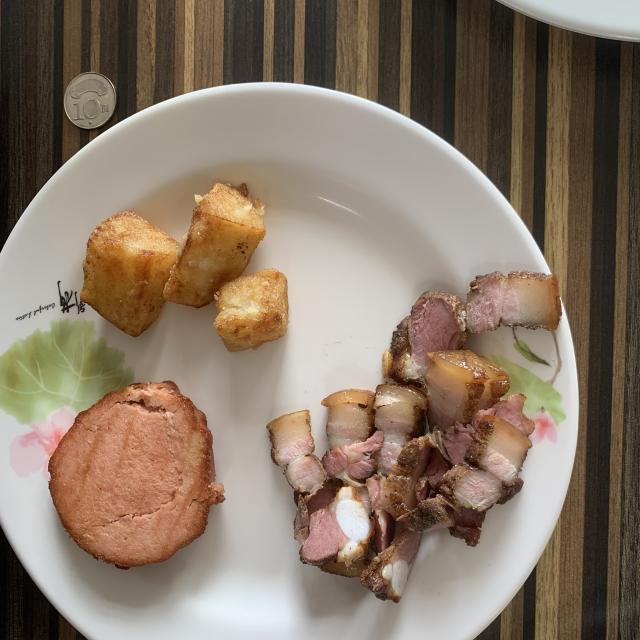Spam: (49, 381, 224, 569)
coin: (64, 72, 116, 129)
fried potato: (80, 182, 288, 351)
grilled pork: (269, 271, 561, 601)
